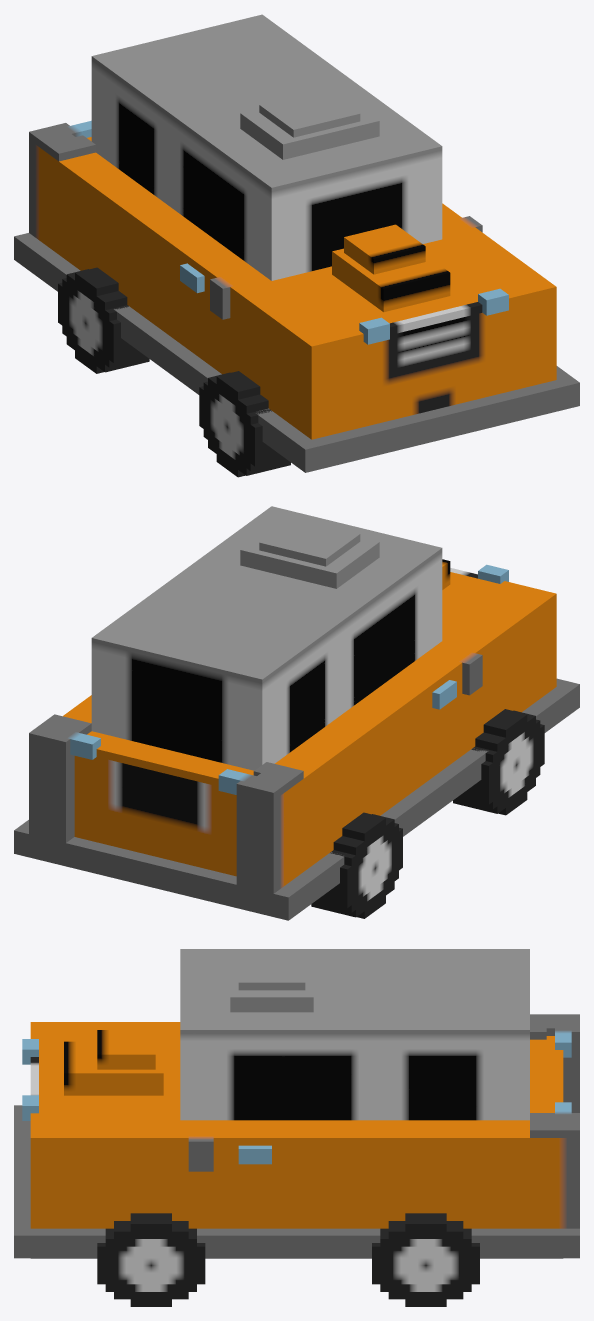
File: car_modern_4.fbx
3 views of the same model, one above another, from view 1: azimuth 30°, elevation 25°; view 2: azimuth 150°, elevation 25°; view 3: azimuth 270°, elevation 25° (orthographic). The views are drawn at different scales.
Parts seen in each view (by area): view 1: body, back_right_wheel, back_left_wheel; view 2: body, back_right_wheel, back_left_wheel; view 3: body, front_right_wheel, front_left_wheel.
Part boxes in pixels (bbox=[...]): body: bbox=[14, 14, 579, 472]; back_right_wheel: bbox=[199, 371, 290, 477]; back_left_wheel: bbox=[58, 267, 149, 373]; body: bbox=[14, 506, 579, 920]; back_right_wheel: bbox=[453, 709, 544, 815]; back_left_wheel: bbox=[311, 812, 402, 918]; body: bbox=[14, 949, 579, 1258]; front_right_wheel: bbox=[97, 1213, 205, 1306]; front_left_wheel: bbox=[372, 1213, 479, 1306].
Bounding box in the file's own units: 39 × 36 × 68.
Materials: 1 (1 with a texture image).
